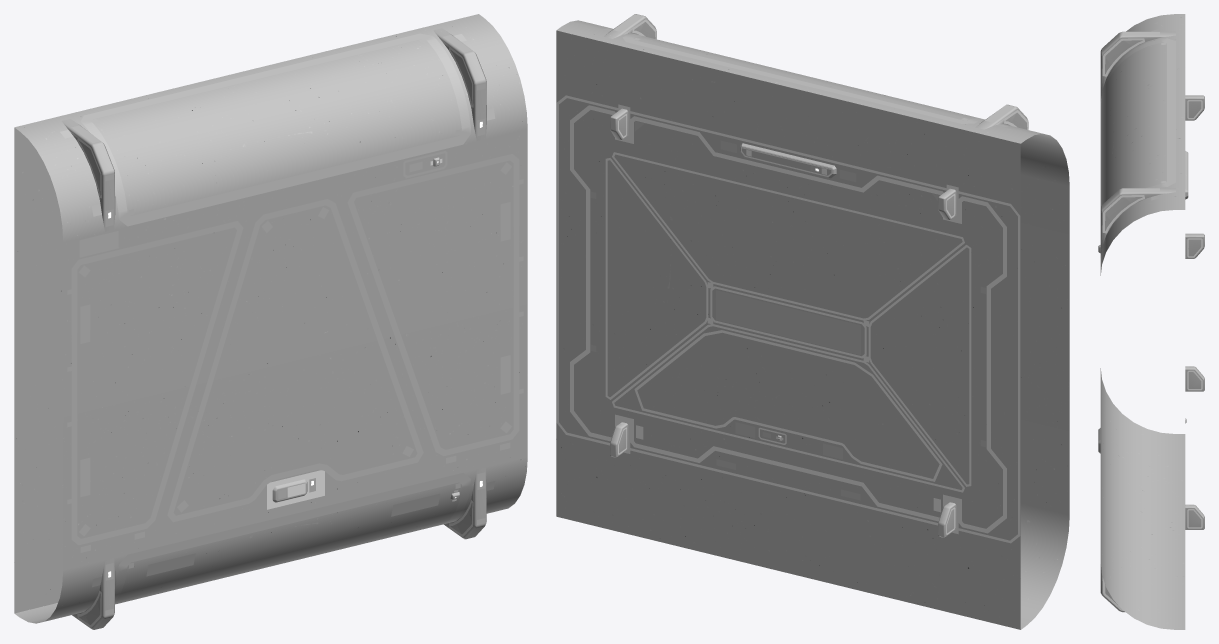
The model's file is SM_Modular_Wall_1_Merged.fbx.
3 renders of one model, left to right at view 1: azimuth 30°, elevation 25°; view 2: azimuth 150°, elevation 25°; view 3: azimuth 270°, elevation 25°, orthographic. The views are drawn at different scales.
Parts seen in each view (by area): view 1: SM_Modular_Wall_1_Merged_LOD0; view 2: SM_Modular_Wall_1_Merged_LOD0; view 3: SM_Modular_Wall_1_Merged_LOD0.
Part boxes in pixels (bbox=[...]): SM_Modular_Wall_1_Merged_LOD0: bbox=[14, 14, 527, 629]; SM_Modular_Wall_1_Merged_LOD0: bbox=[556, 14, 1069, 629]; SM_Modular_Wall_1_Merged_LOD0: bbox=[1098, 14, 1204, 629].
Bounding box in the file's own units: 500 × 115 × 500.
